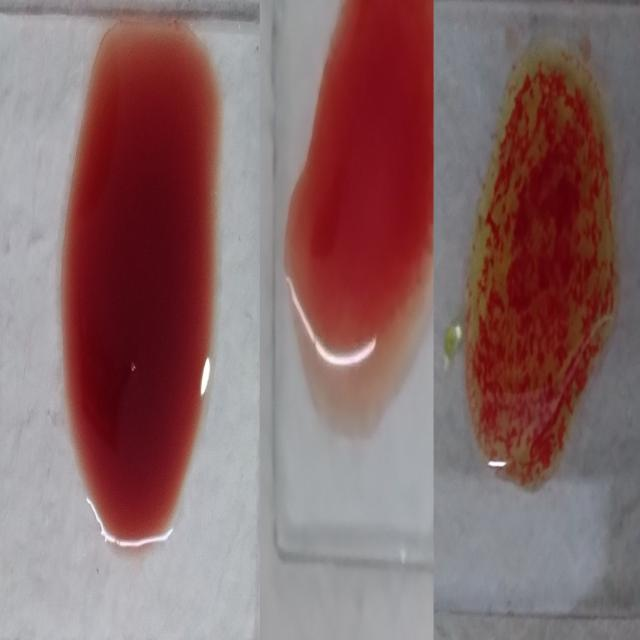B: (461, 66, 616, 482)
